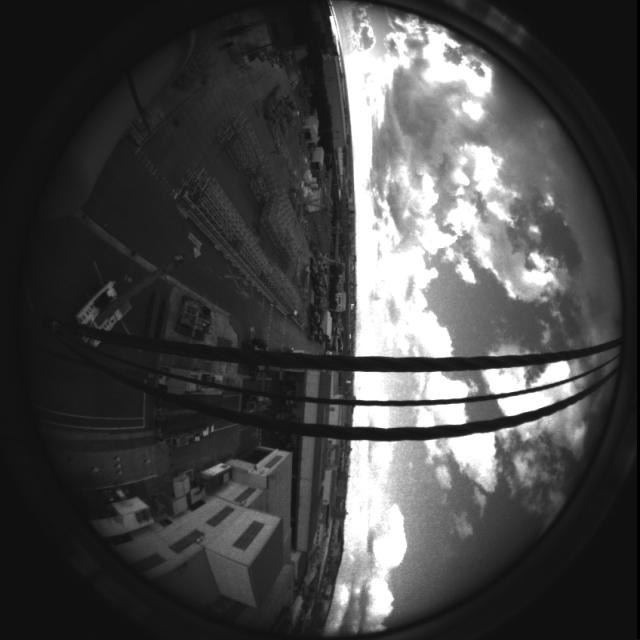rope: (19, 309, 632, 446)
sky: (321, 5, 623, 638)
